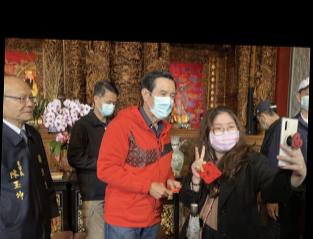with_mask: (207, 118, 241, 153), (146, 87, 177, 119), (95, 95, 117, 117), (256, 115, 270, 130), (299, 89, 309, 110)
without_mask: (6, 89, 34, 121)
